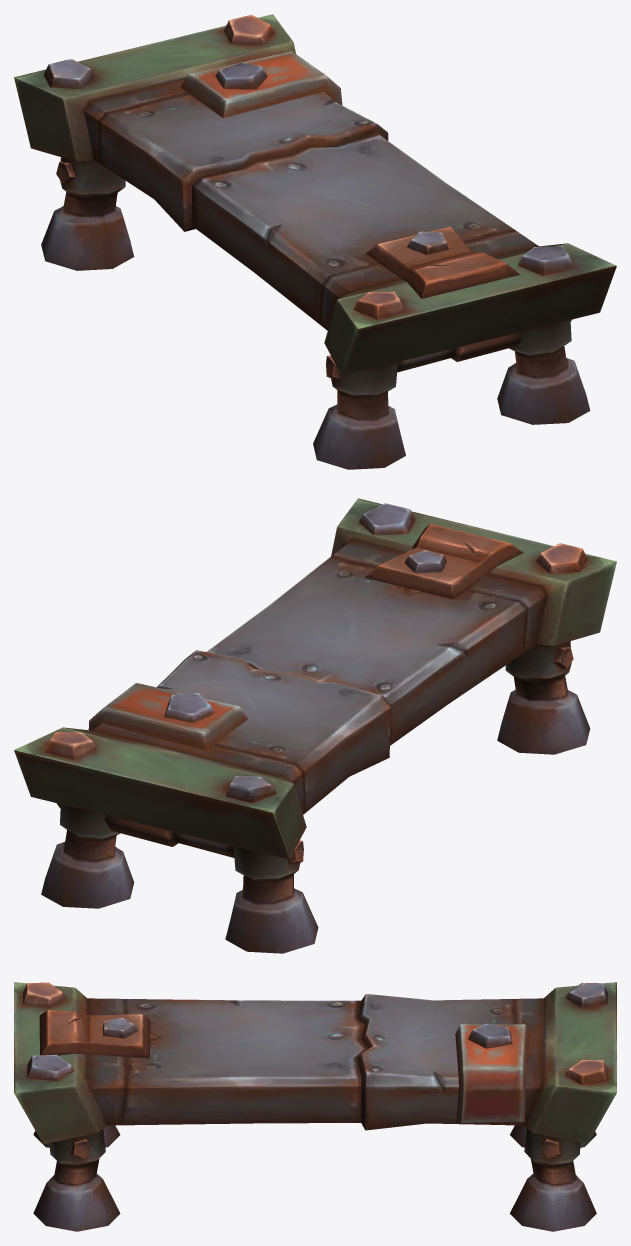
3 views of the same model, one above another, from view 1: azimuth 30°, elevation 25°; view 2: azimuth 150°, elevation 25°; view 3: azimuth 270°, elevation 25° (orthographic). The views are drawn at different scales.
Size of the model in its own units: 0.8342 by 0.5266 by 1.85.
1 material, 1 textured.
